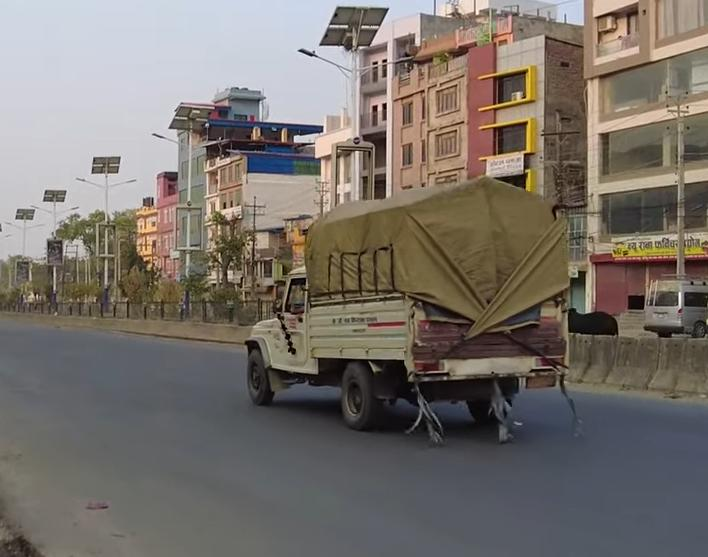micro_bus: (632, 269, 708, 347)
transport_vehicle: (234, 167, 582, 434)
